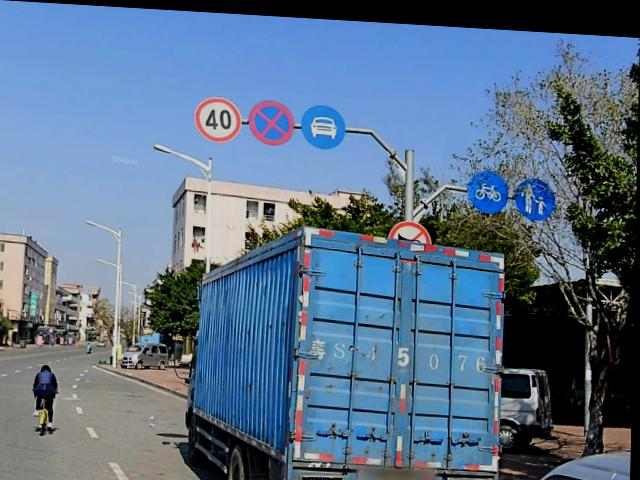limit40: (194, 91, 244, 139)
